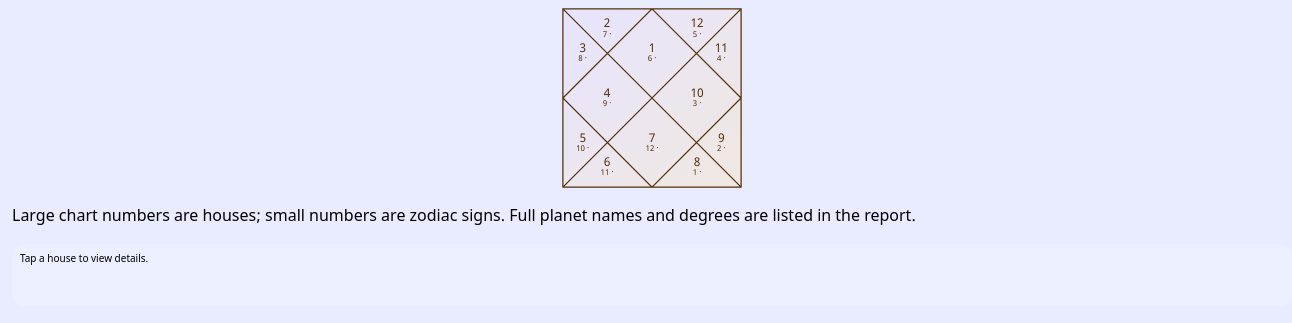
Test case: explains an empty house in en
The width and height of the screenshot is (1292, 323).
Click the button "3 8 ·" at [583, 53], box [566, 36, 600, 70]
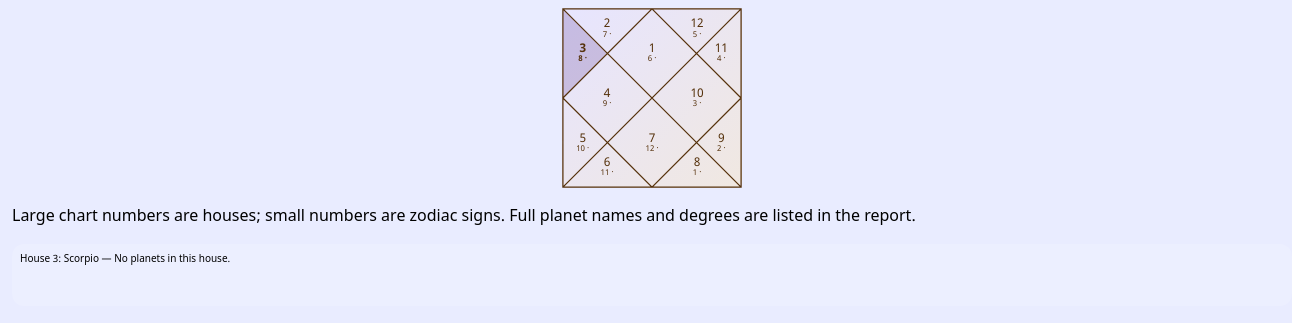
Expected: the text "House 3: Scorpio — No planets in this house." is shown, [12, 244, 1291, 306]
